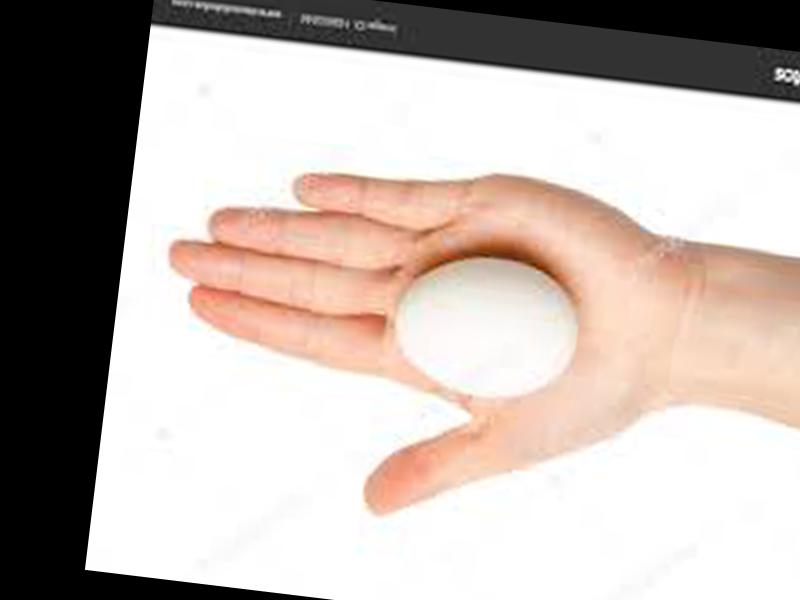Eggs: (387, 253, 583, 403)
